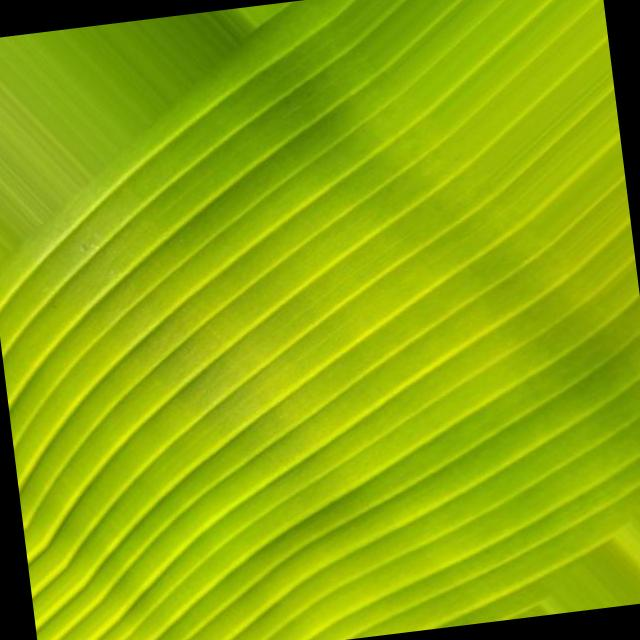Banana_Healthy: (128, 167, 544, 544)
